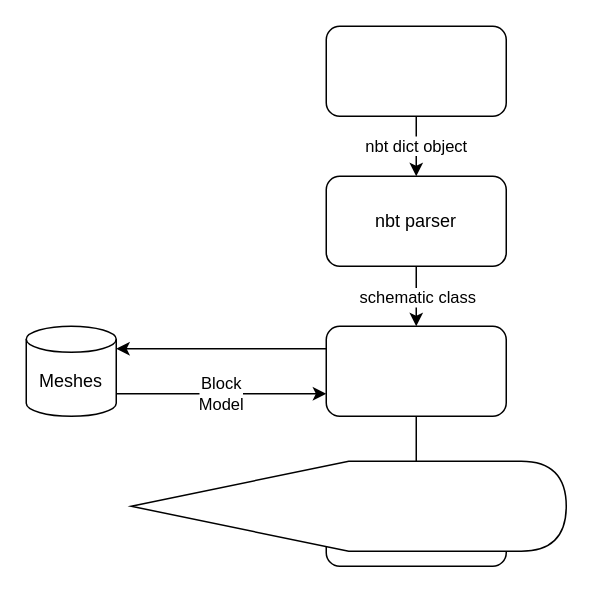
This 593x593 diagram has some shape labels left out. The centre of each missing label's shape, as x and y in pixels:
create mesh: the point at 415,370
load file with nbt lib: the point at 415,70
